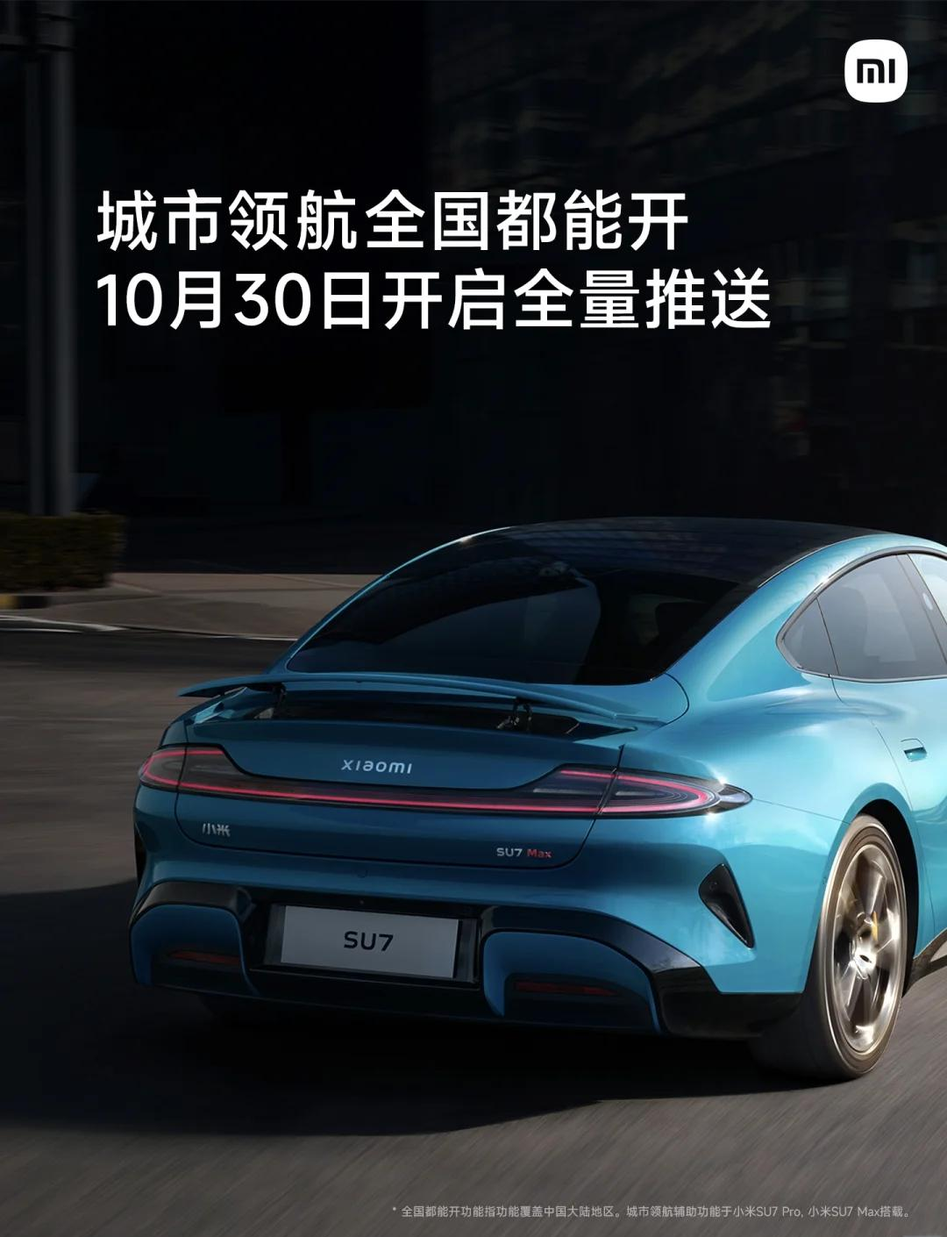su7: (122, 516, 947, 1076)
